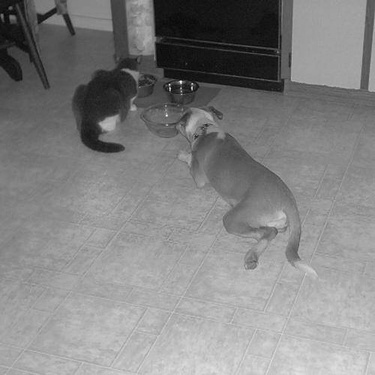cat: (67, 56, 142, 152)
dog: (170, 104, 322, 280)
